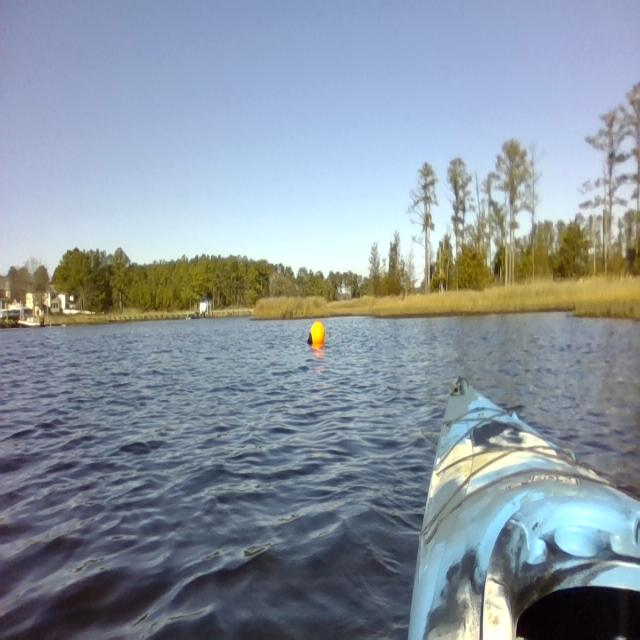Buoy: (305, 314, 331, 354)
